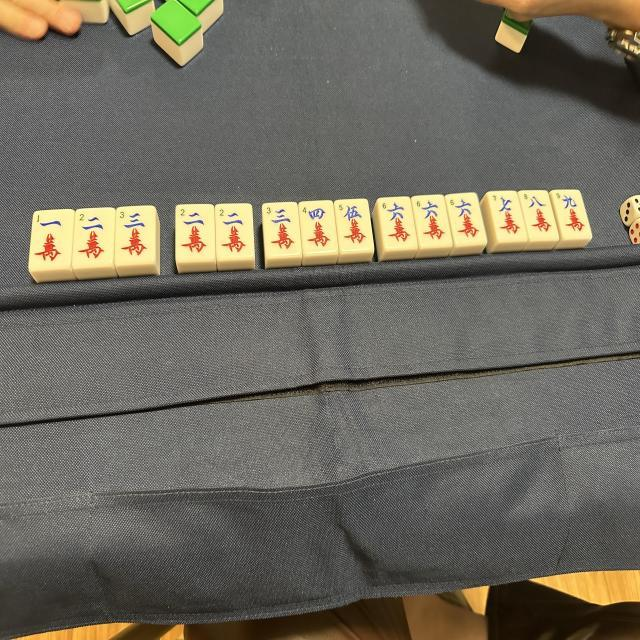sc1: (32, 212, 70, 266)
sc2: (77, 210, 113, 260), (179, 207, 214, 256), (218, 206, 252, 254)
sc3: (117, 207, 156, 259), (266, 204, 298, 252)
sc4: (302, 203, 336, 249)
sc5: (337, 202, 372, 248)
sc6: (378, 198, 412, 246), (448, 195, 482, 241), (415, 198, 448, 242)
sc7: (489, 193, 521, 238)
sc8: (522, 193, 554, 235)
sc9: (554, 192, 586, 235)
